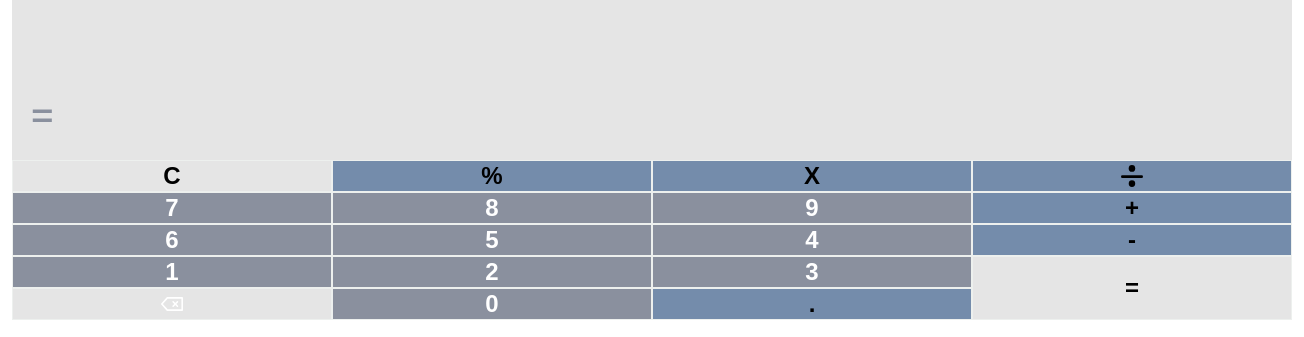
Test case: Render SideNav › multiple Buttons reflect on output
Step 1. Click the button "5" → (492, 240), box [332, 224, 652, 256]
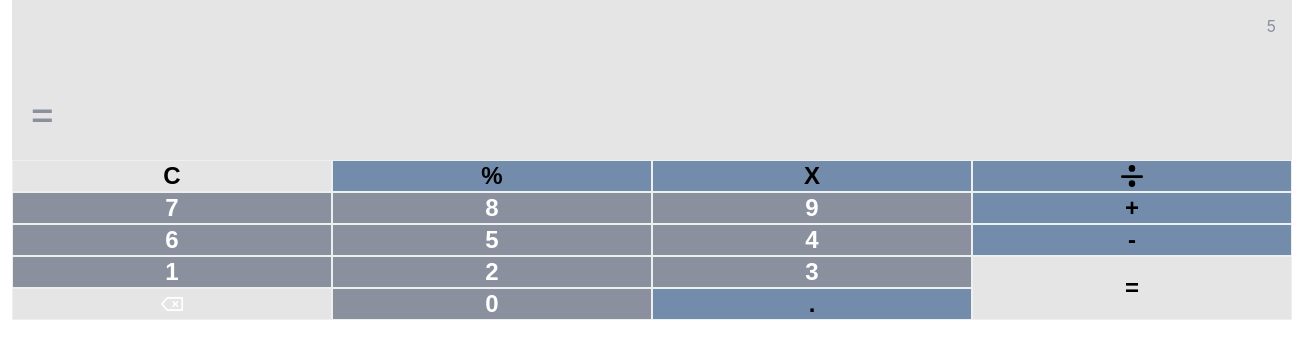
Step 2. Click the button "9" → (812, 208), box [652, 192, 972, 224]
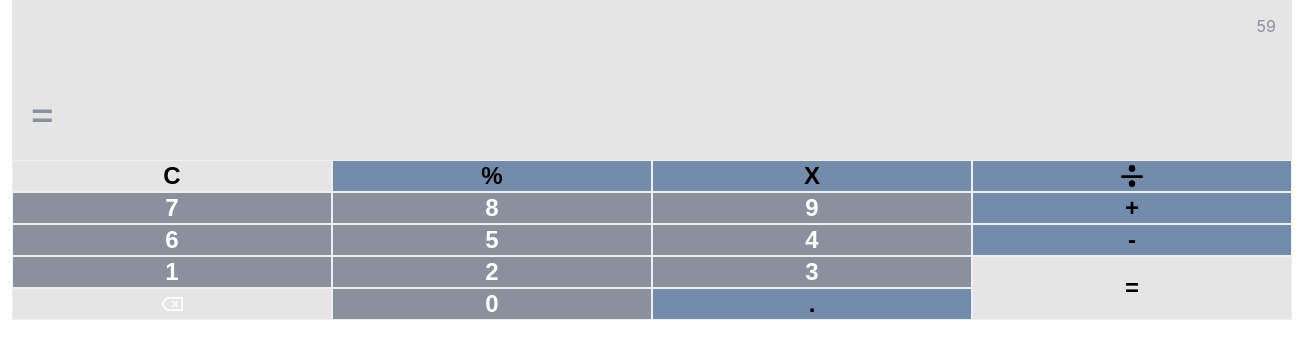
Expected: the text with test id "current-input" reads "59", [1257, 16, 1276, 36]
